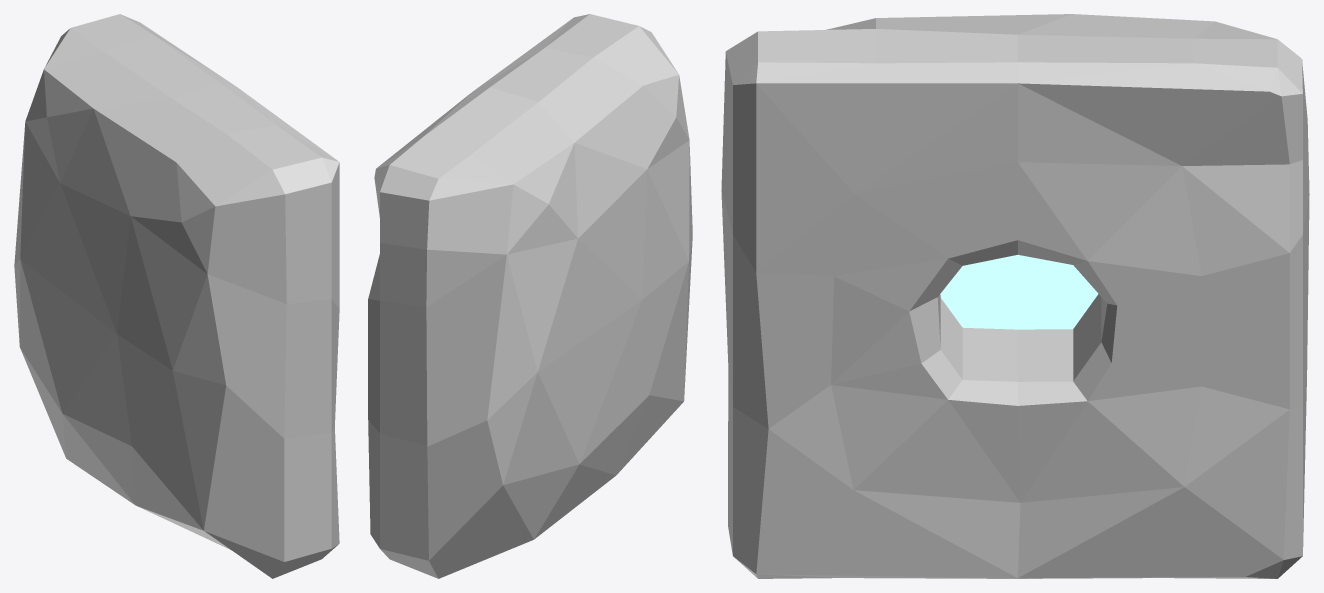
File: rockTurret2.fbx
The picture shows the model from 3 angles, left to right: view 1: azimuth 30°, elevation 25°; view 2: azimuth 150°, elevation 25°; view 3: azimuth 270°, elevation 25°; orthographic projection. The views are drawn at different scales.
Parts seen in each view (by area): view 1: Cube.001; view 2: Cube.001; view 3: Cube.001.
Boxes of the visible parts, box(x1,y1,x2,y2) form: Cube.001: box(14, 14, 339, 578); Cube.001: box(368, 14, 692, 578); Cube.001: box(721, 14, 1309, 578).
Bounding box in the file's own units: 0.2748 × 0.7011 × 0.696.
